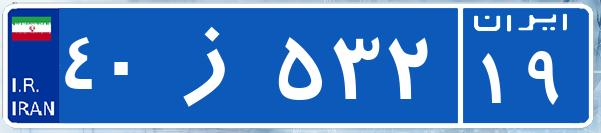0: (110, 28, 158, 105)
1: (475, 38, 525, 113)
2: (385, 28, 445, 110)
3: (330, 28, 385, 110)
4: (57, 26, 110, 107)
5: (273, 28, 330, 110)
9: (525, 38, 570, 115)
ز: (158, 15, 273, 115)
